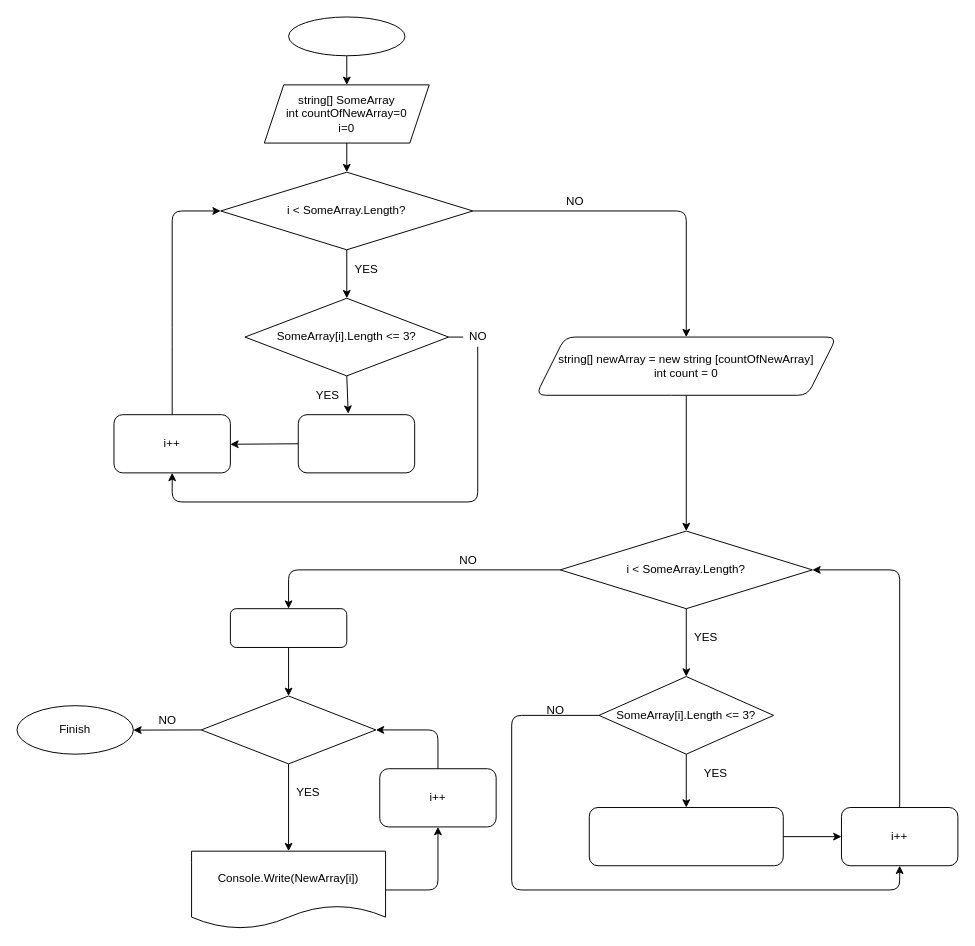
Some shapes in this 975 by 946 pixel diagram are drawn without their labels. The shapes that lost their labels are listed below. From the top down, each one's box as (x1, y1, x2, y2) in pixels, then its label:
(288, 16, 405, 56): start
(297, 414, 415, 473): countOfNewArray++
(229, 608, 347, 647): newArray[] i=0
(200, 695, 376, 764): i < NewArray.Length?
(588, 807, 783, 866): count++ newArray[count-1] = someArray[i]
